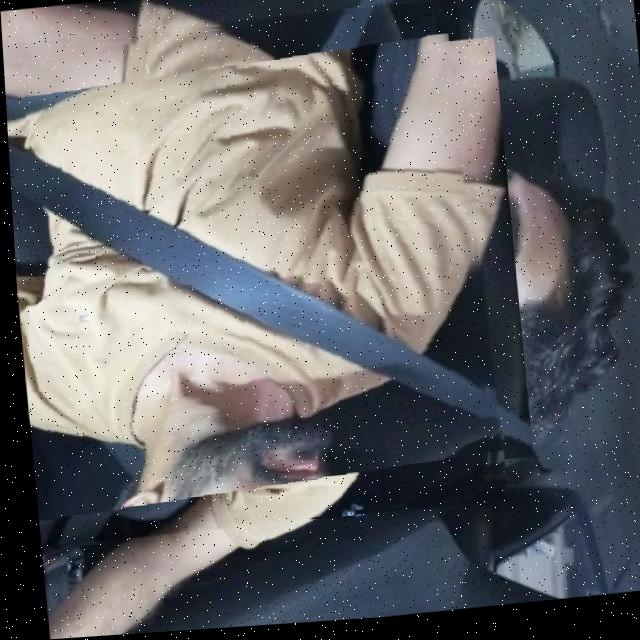seatbelt: (1, 3, 497, 547)
